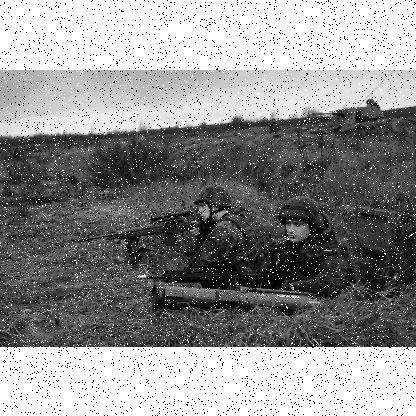gun: (74, 210, 216, 266), (132, 247, 268, 291)
